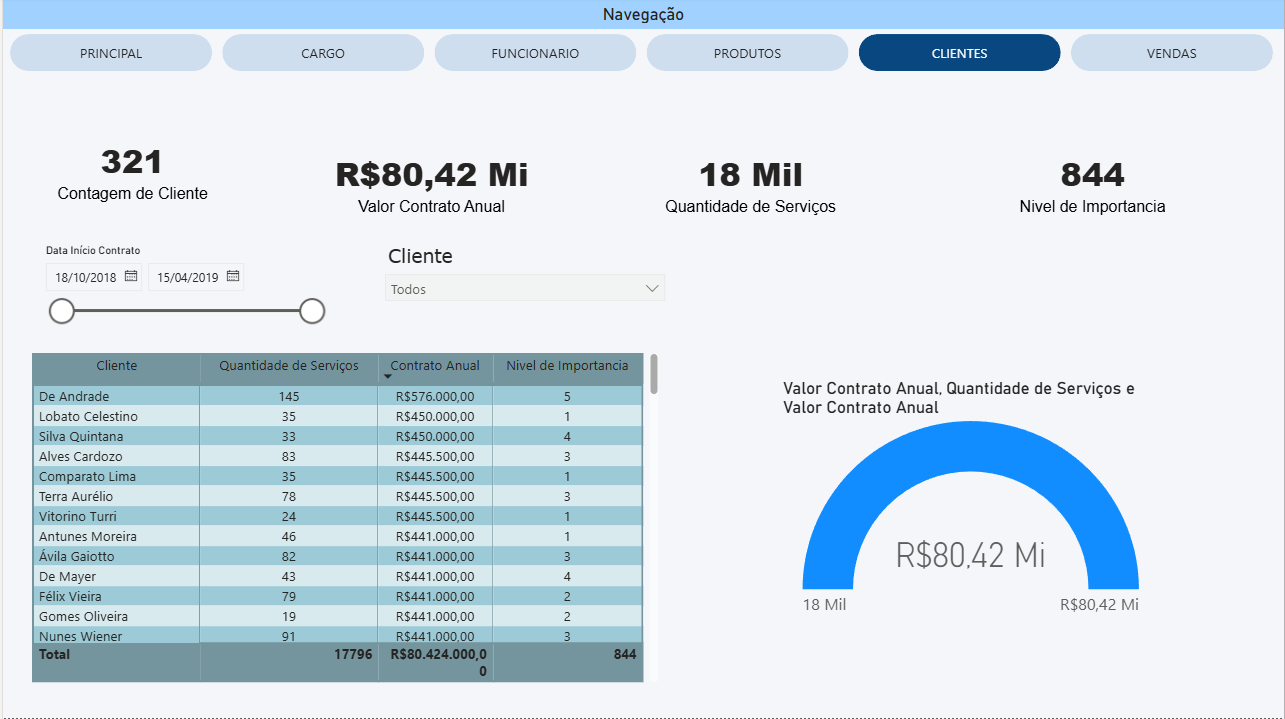

The page's visual inventory and layout, read from the dashboard file:
{"tool":"powerbi","page":{"name":"CLIENTES","canvas":[1280,720],"ordinal":4},"visuals":[{"type":"pageNavigator","title":"Navegação","box":[0,0,1280,80.7],"z":0},{"type":"tableEx","fields":{"Values":["Base Clientes.Cliente","Sum(Base Clientes.Quantidade de Serviços)","Sum(Base Clientes.Valor Contrato Anual)","Sum(Base Clientes.Nivel de Importancia)"]},"box":[23.3,351.1,637.1,339.5],"z":1000},{"type":"cardVisual","fields":{"Data":["CountNonNull(Base Clientes.Cliente)"]},"box":[23.3,119.6,213,106],"z":2000},{"type":"cardVisual","fields":{"Data":["Sum(Base Clientes.Valor Contrato Anual)"]},"box":[286.8,110.9,283.8,150.9],"z":3000},{"type":"gauge","fields":{"MaxValue":["Sum(Base Clientes.Valor Contrato Anual)"],"MinValue":["Sum(Base Clientes.Quantidade de Serviços)"],"Y":["Sum(Base Clientes.Valor Contrato Anual)"]},"box":[774.2,380.3,385.2,247.1],"z":4000},{"type":"cardVisual","fields":{"Data":["Sum(Base Clientes.Quantidade de Serviços)"]},"box":[583.5,110.9,327.7,150.9],"z":5000},{"type":"cardVisual","fields":{"Data":["Sum(Base Clientes.Nivel de Importancia)"]},"box":[967.2,110.9,243.8,150.9],"z":6000},{"type":"slicer","fields":{"Values":["Base Clientes.Data Início Contrato"]},"box":[30,241.8,299.8,108.9],"z":7000},{"type":"slicer","fields":{"Values":["Base Clientes.Cliente"]},"box":[371.7,241.8,299.8,91.9],"z":8000}]}

Visuals, with their boxes in screenshot pixels (x1, y1, x2, y2), scaled from the page's 1280x720 canvas onto the 1285x719 screenshot:
"Navegação" pageNavigator: 0,0,1284,81
tableEx - Base Clientes.Cliente x Sum(Base Clientes.Quantidade de Serviços): 23,351,663,690
cardVisual - CountNonNull(Base Clientes.Cliente): 23,119,237,225
cardVisual - Sum(Base Clientes.Valor Contrato Anual): 288,111,573,261
gauge - Sum(Base Clientes.Valor Contrato Anual) x Sum(Base Clientes.Quantidade de Serviços): 777,380,1164,627
cardVisual - Sum(Base Clientes.Quantidade de Serviços): 586,111,915,261
cardVisual - Sum(Base Clientes.Nivel de Importancia): 971,111,1216,261
slicer - Base Clientes.Data Início Contrato: 30,241,331,350
slicer - Base Clientes.Cliente: 373,241,674,333
